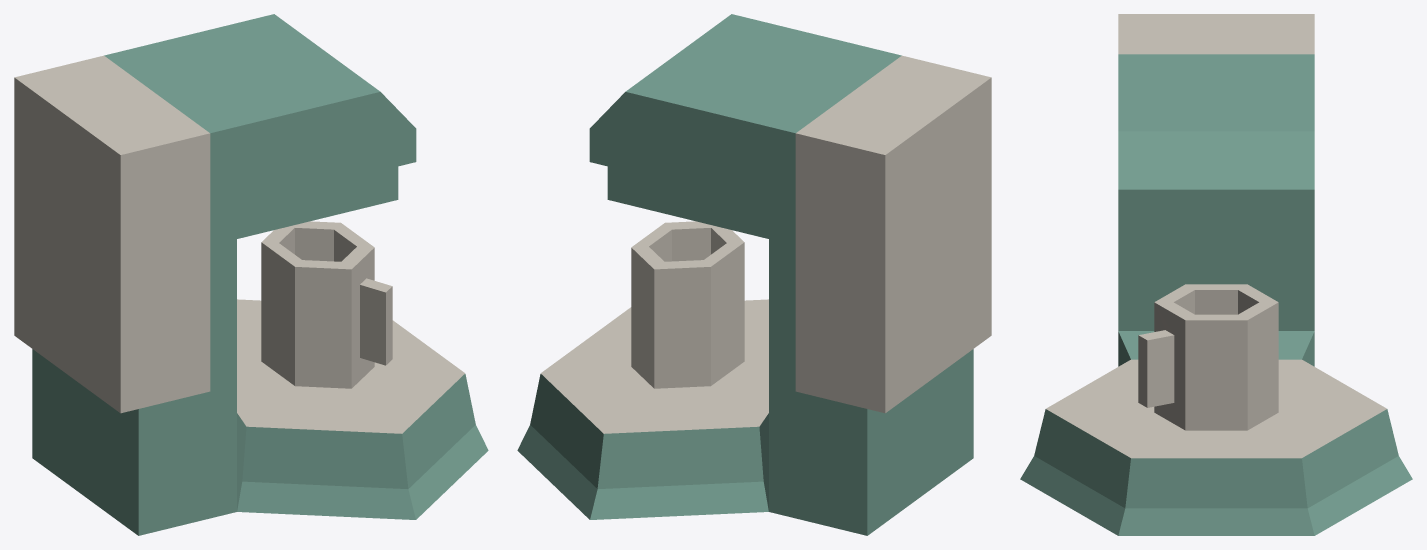
The model's file is kitchen-coffee-machine.glb.
The picture shows the model from 3 angles, left to right: view 1: azimuth 30°, elevation 25°; view 2: azimuth 150°, elevation 25°; view 3: azimuth 270°, elevation 25°; orthographic projection. The views are drawn at different scales.
Size of the model in its own units: 1 by 1 by 1.
